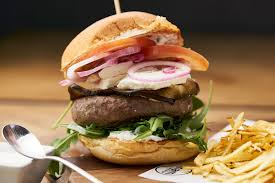hamburger: (66, 8, 208, 164)
